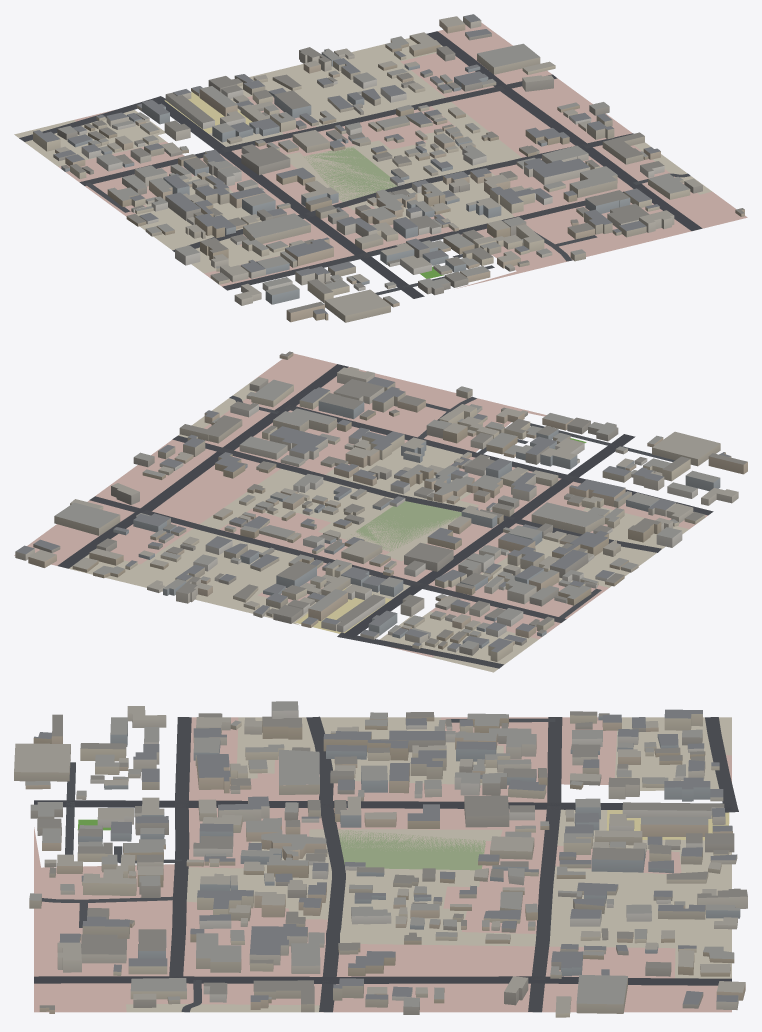
3 renders of one model, top to bottom at view 1: azimuth 30°, elevation 25°; view 2: azimuth 150°, elevation 25°; view 3: azimuth 270°, elevation 25°, orthographic. The views are drawn at different scales.
Visible parts, largest first — view 1: buildings_roofs, landuse, buildings_walls, roads; view 2: buildings_roofs, landuse, buildings_walls, roads; view 3: landuse, buildings_roofs, buildings_walls, roads.
Boxes of the visible parts, <box> form: buildings_roofs: <box>33,14,744,315</box>; landuse: <box>14,22,747,288</box>; buildings_walls: <box>33,16,744,322</box>; roads: <box>19,31,702,298</box>; buildings_roofs: <box>15,351,747,652</box>; landuse: <box>14,353,707,672</box>; buildings_walls: <box>15,353,747,661</box>; roads: <box>57,364,713,668</box>; landuse: <box>34,717,731,1012</box>; buildings_roofs: <box>14,701,747,1013</box>; buildings_walls: <box>14,705,747,1017</box>; roads: <box>34,716,738,1012</box>.
Bounding box in the file's own units: 516 × 9.63 × 526.
